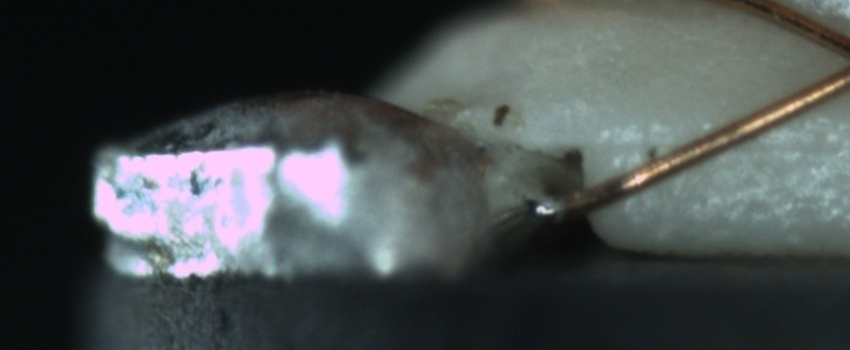CL: (813, 16, 850, 100)
DL: (614, 110, 850, 176)
